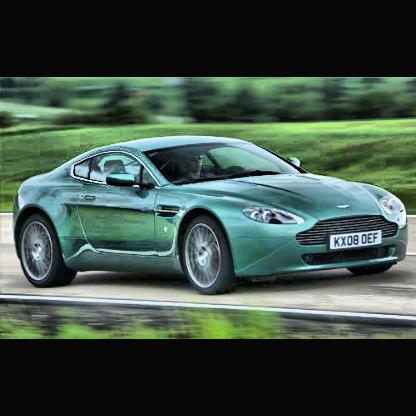Aston Martin V8 Vantage Coupe 2012: (11, 133, 413, 298)
